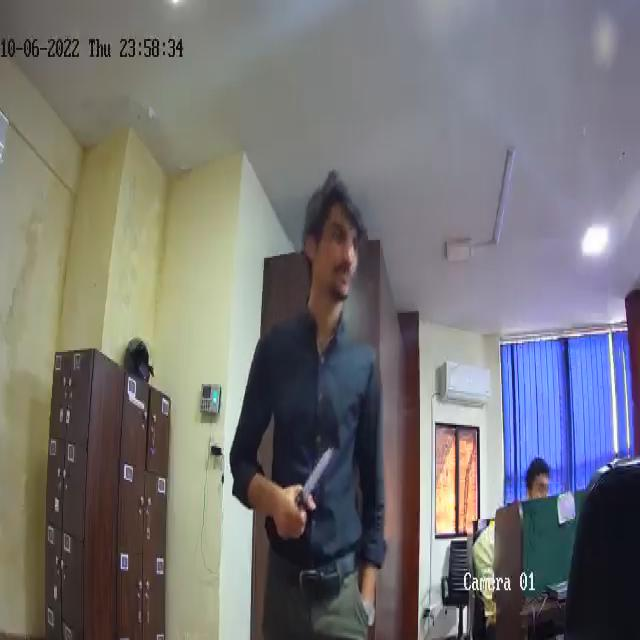weapon: (282, 443, 333, 535)
